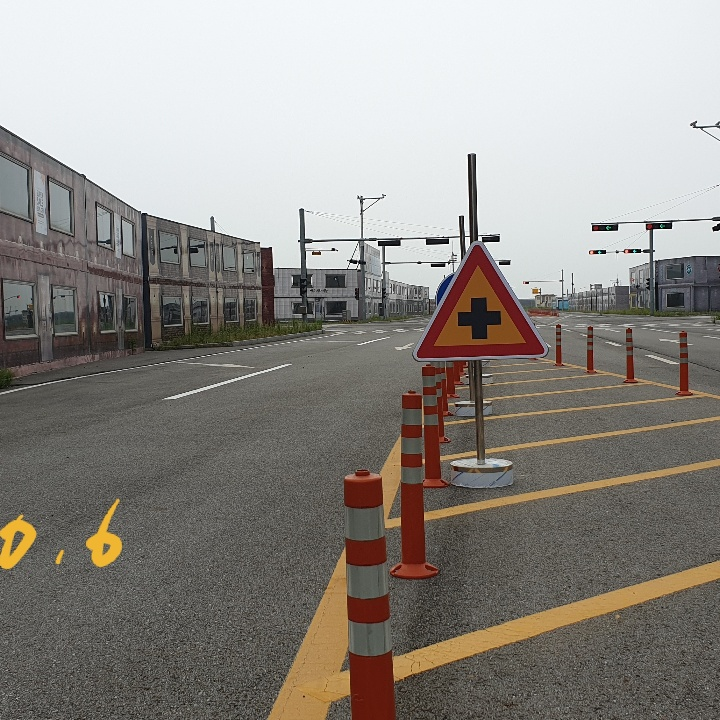inter: (452, 292, 507, 344)
